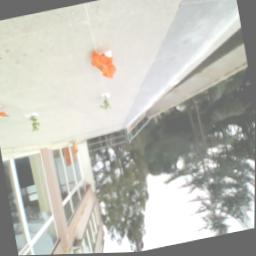herb: (99, 95, 113, 115)
wild: (87, 43, 123, 85), (28, 114, 44, 134)
